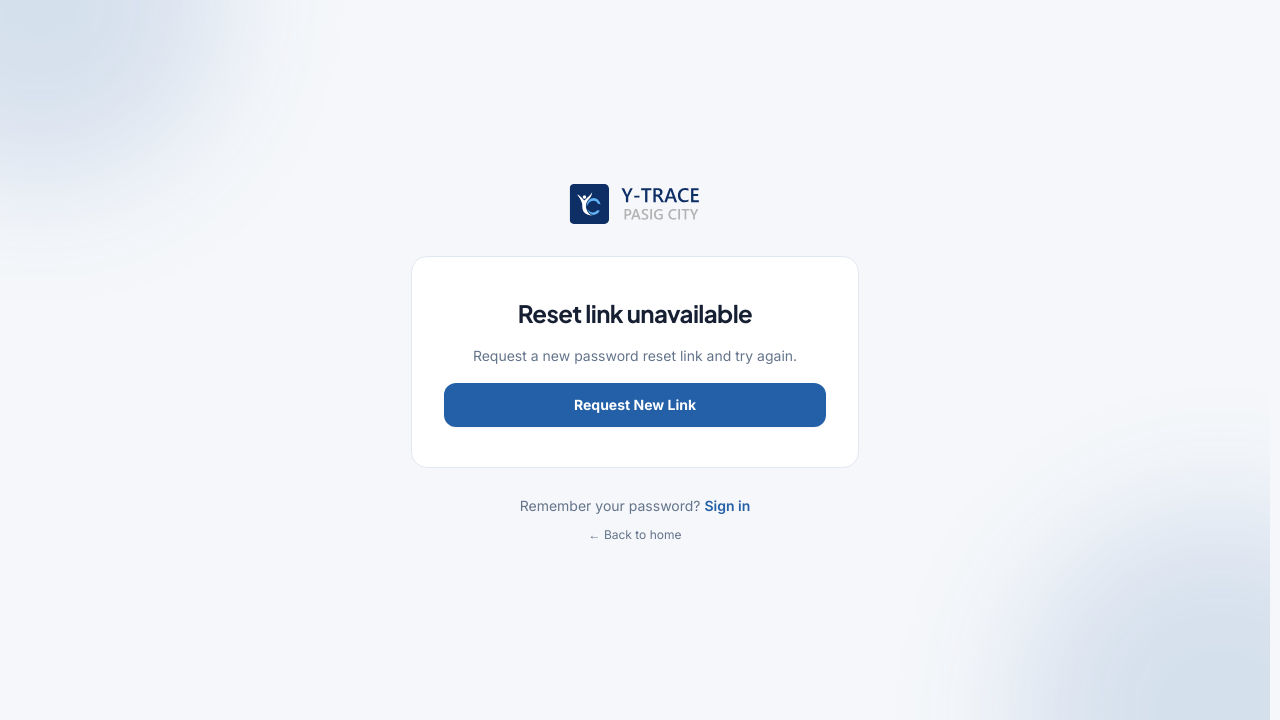
Scenario: ResetPassword Component & Recovery Flow Suite › Test 6: Expired recovery link allows requesting a new link
The image size is (1280, 720).
Click the button "Request New Link" at (635, 405), box [444,383,826,427]
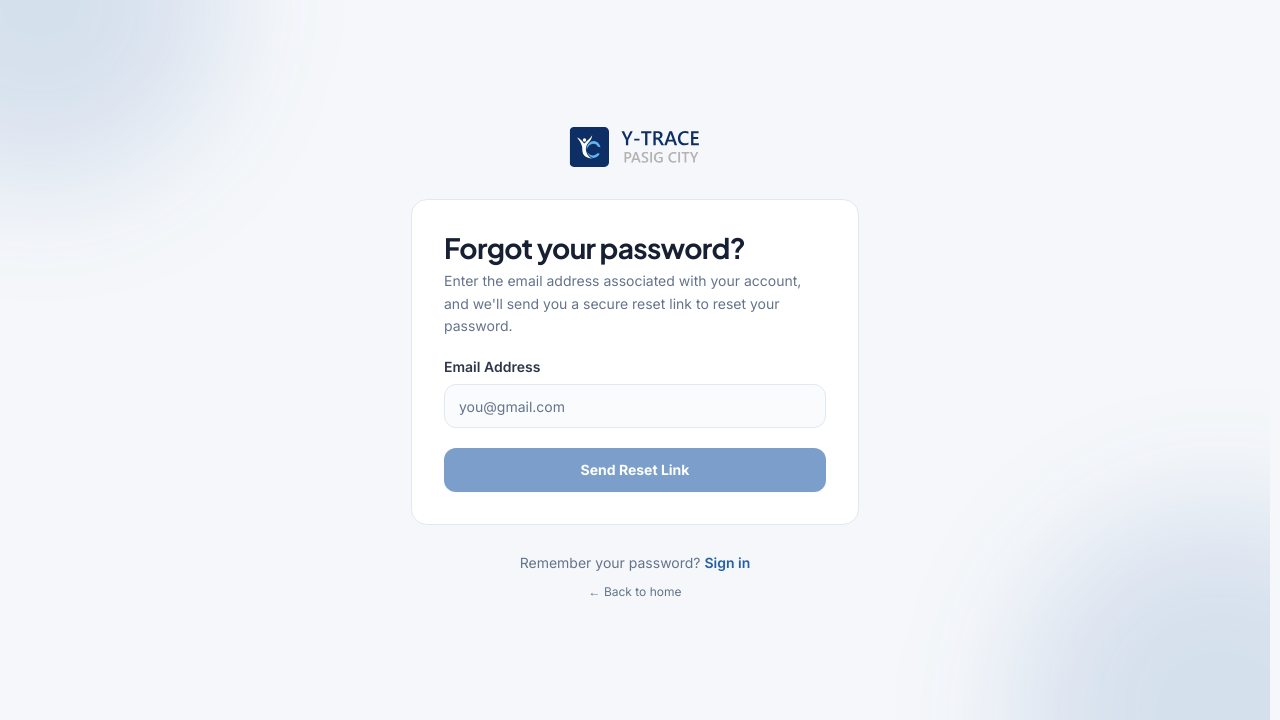
expect the heading "Forgot your password?" is shown: met, box [444,230,745,265]
expect the field labelled "Email Address" is shown: met, box [444,384,826,428]
